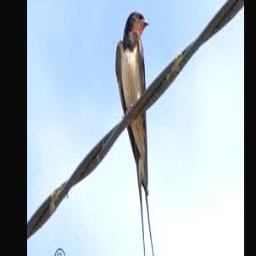Swallow: (115, 12, 155, 256)
